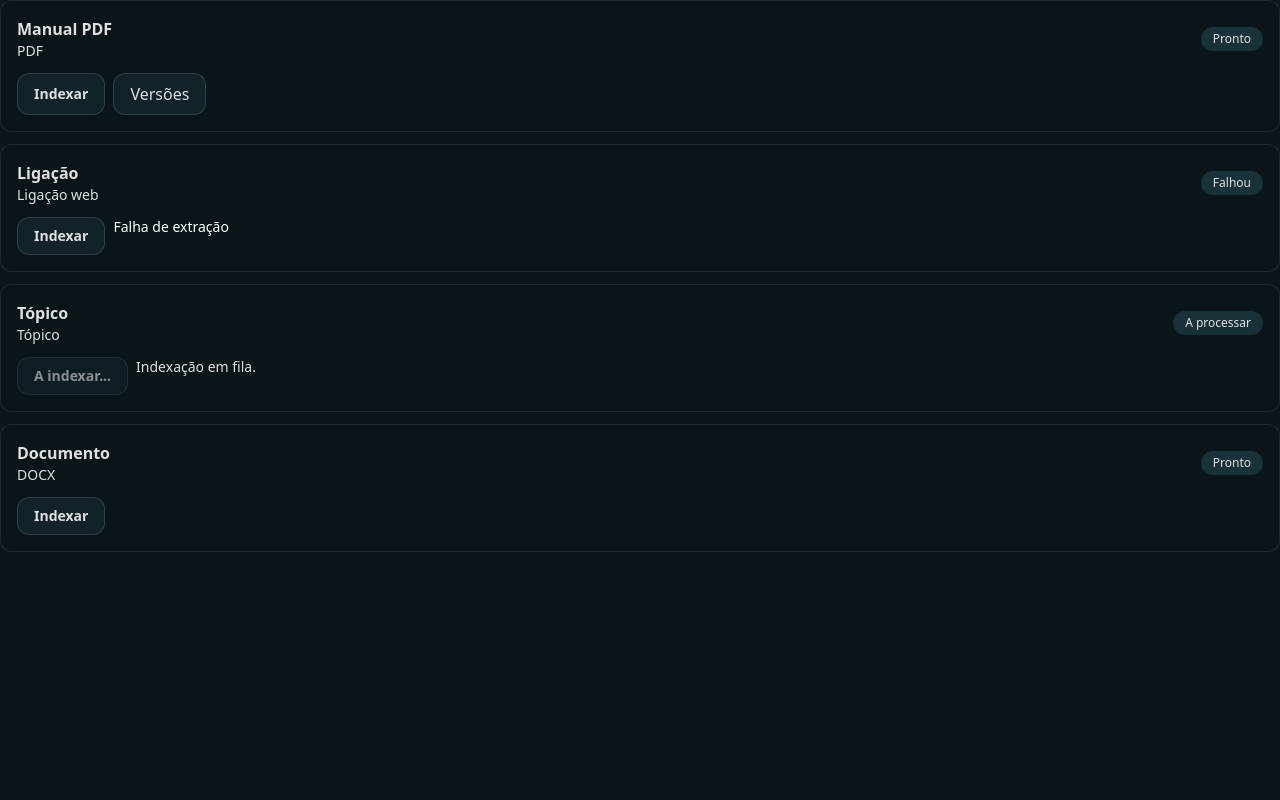
Test: MaterialList › hidrata jobs, traduz estados e inicia uma indexação sem duplicar
The width and height of the screenshot is (1280, 800).
Expected: the text "Falha de extração" is shown, top-left (113, 217), bottom-right (229, 236)
Expected: the text "Ligação web" is shown, top-left (17, 185), bottom-right (99, 205)
Click the button "Indexar" below "Documento" at (61, 516), box top-left (17, 497), bottom-right (105, 535)
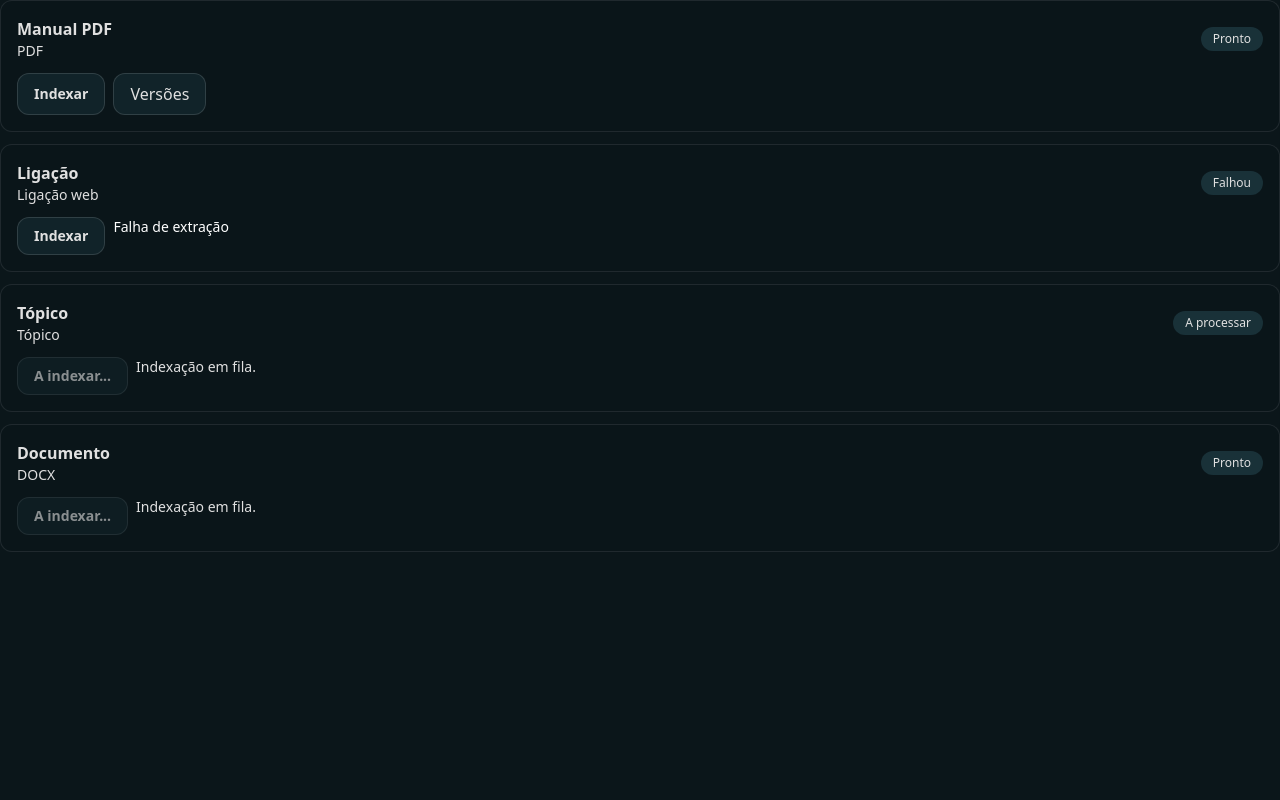
Now the text "Indexação em fila." below "Documento" is shown, box top-left (136, 497), bottom-right (256, 516)
